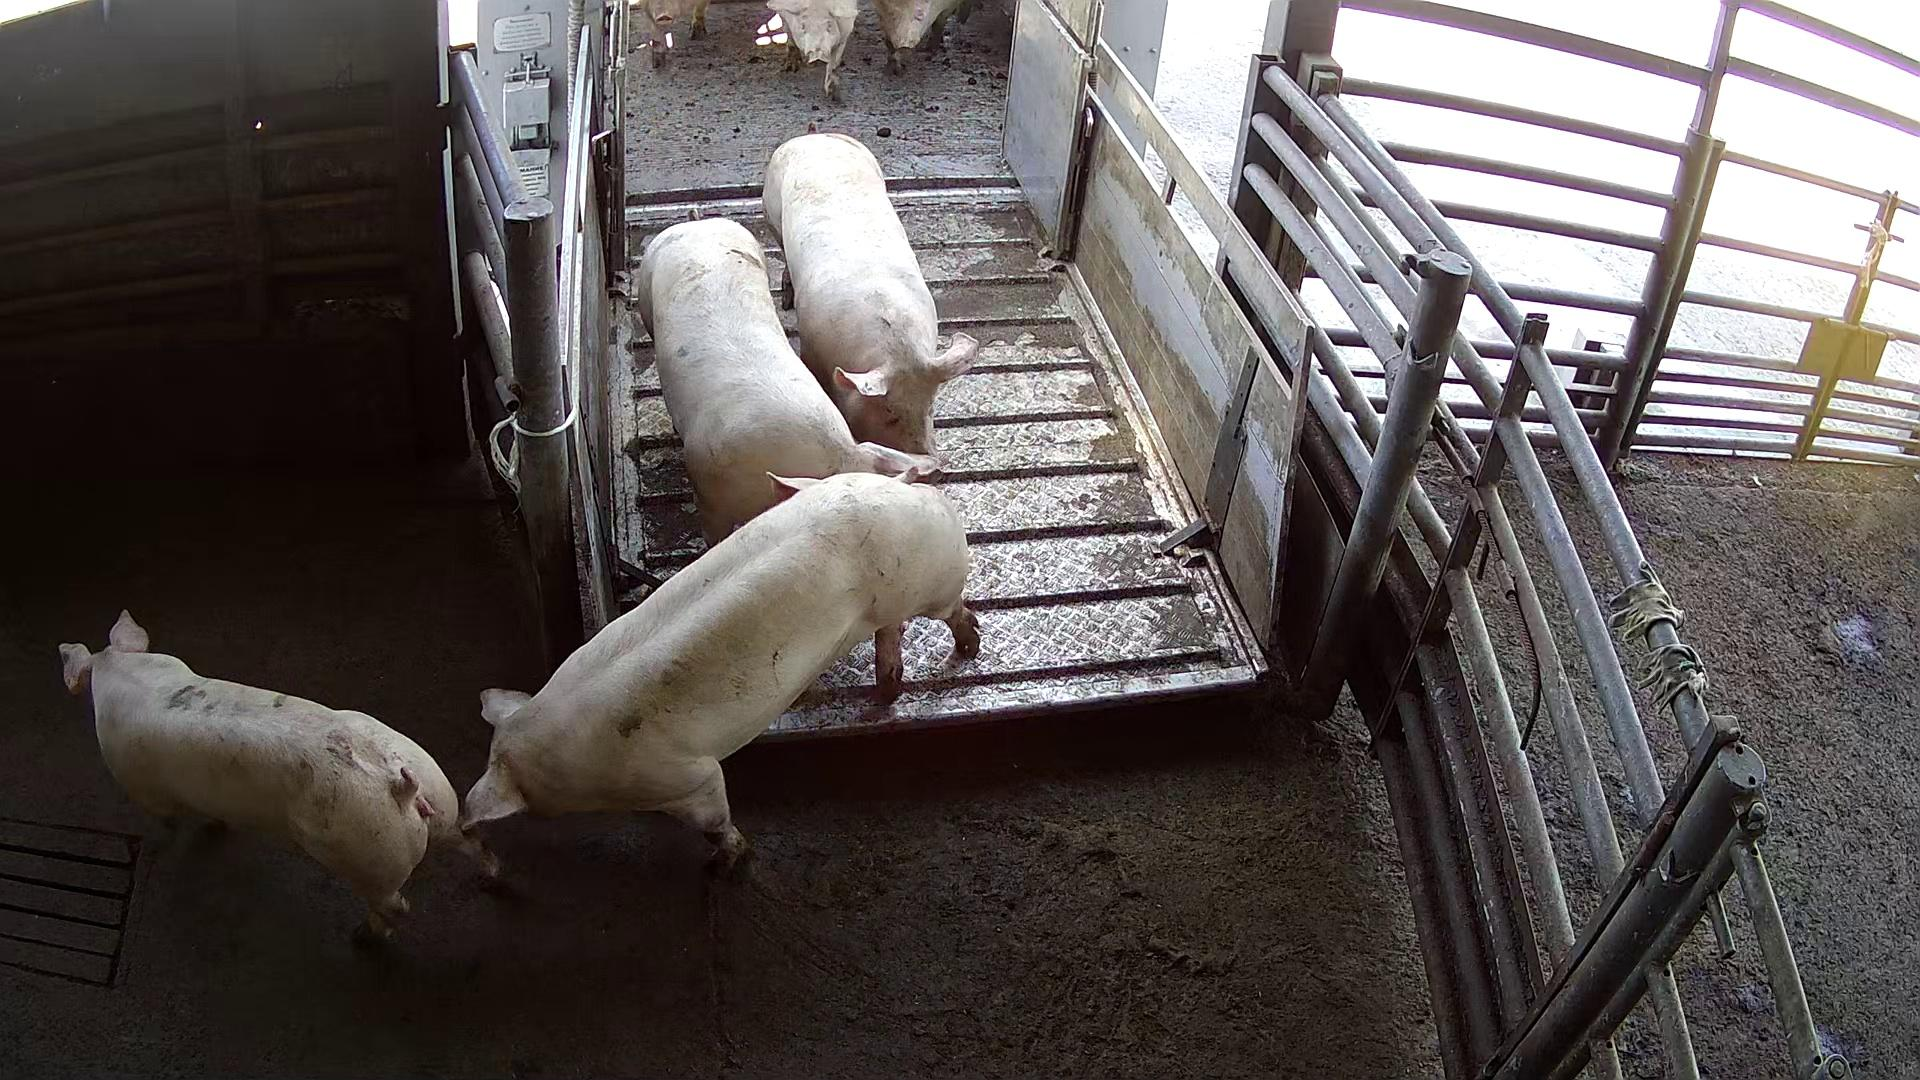Pig: (459, 472, 978, 862), (57, 611, 462, 938), (637, 215, 928, 543), (764, 132, 978, 454), (766, 0, 858, 99), (873, 0, 971, 70), (638, 0, 708, 65)
